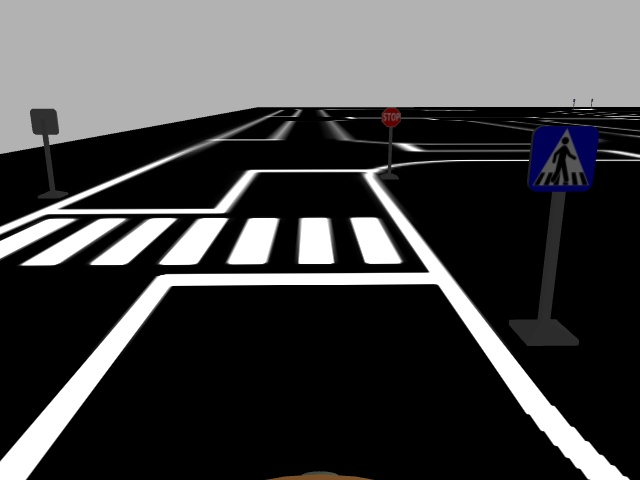crosswalk: (527, 125, 601, 195)
stop: (379, 105, 403, 128)
